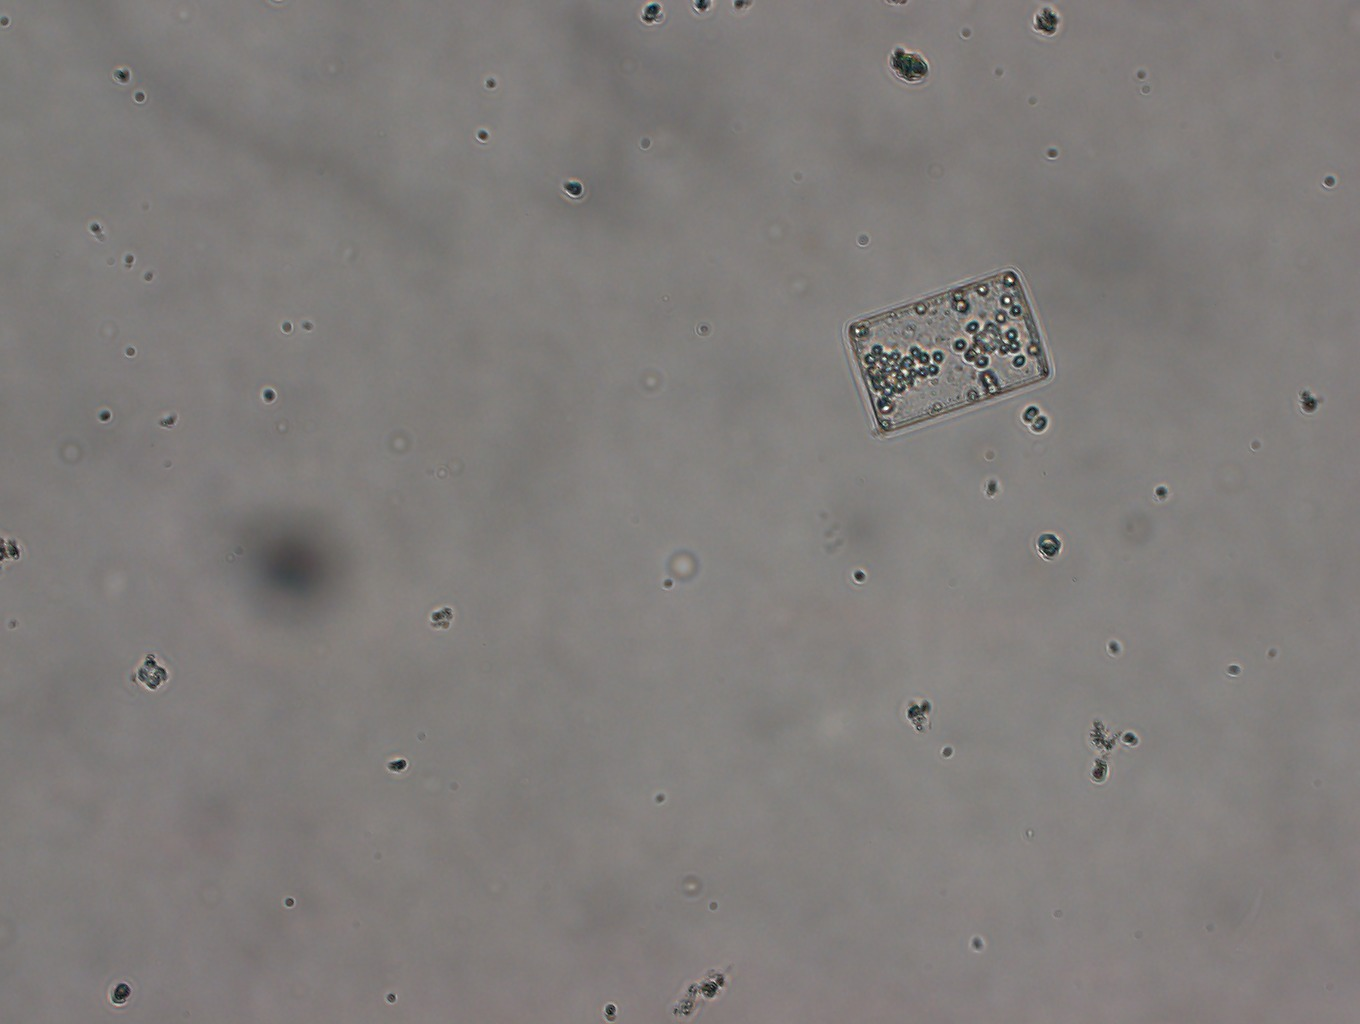guinardia flaccida: (834, 267, 1061, 437)
